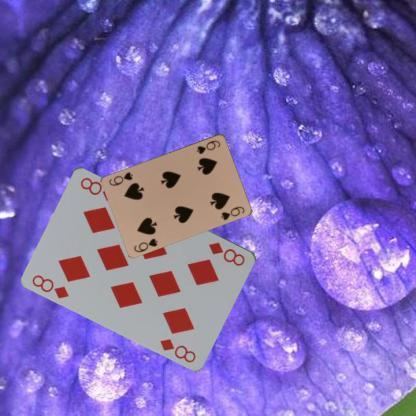6s: (194, 137, 222, 155), (131, 235, 159, 253)
8d: (206, 239, 247, 268), (30, 272, 72, 300)
